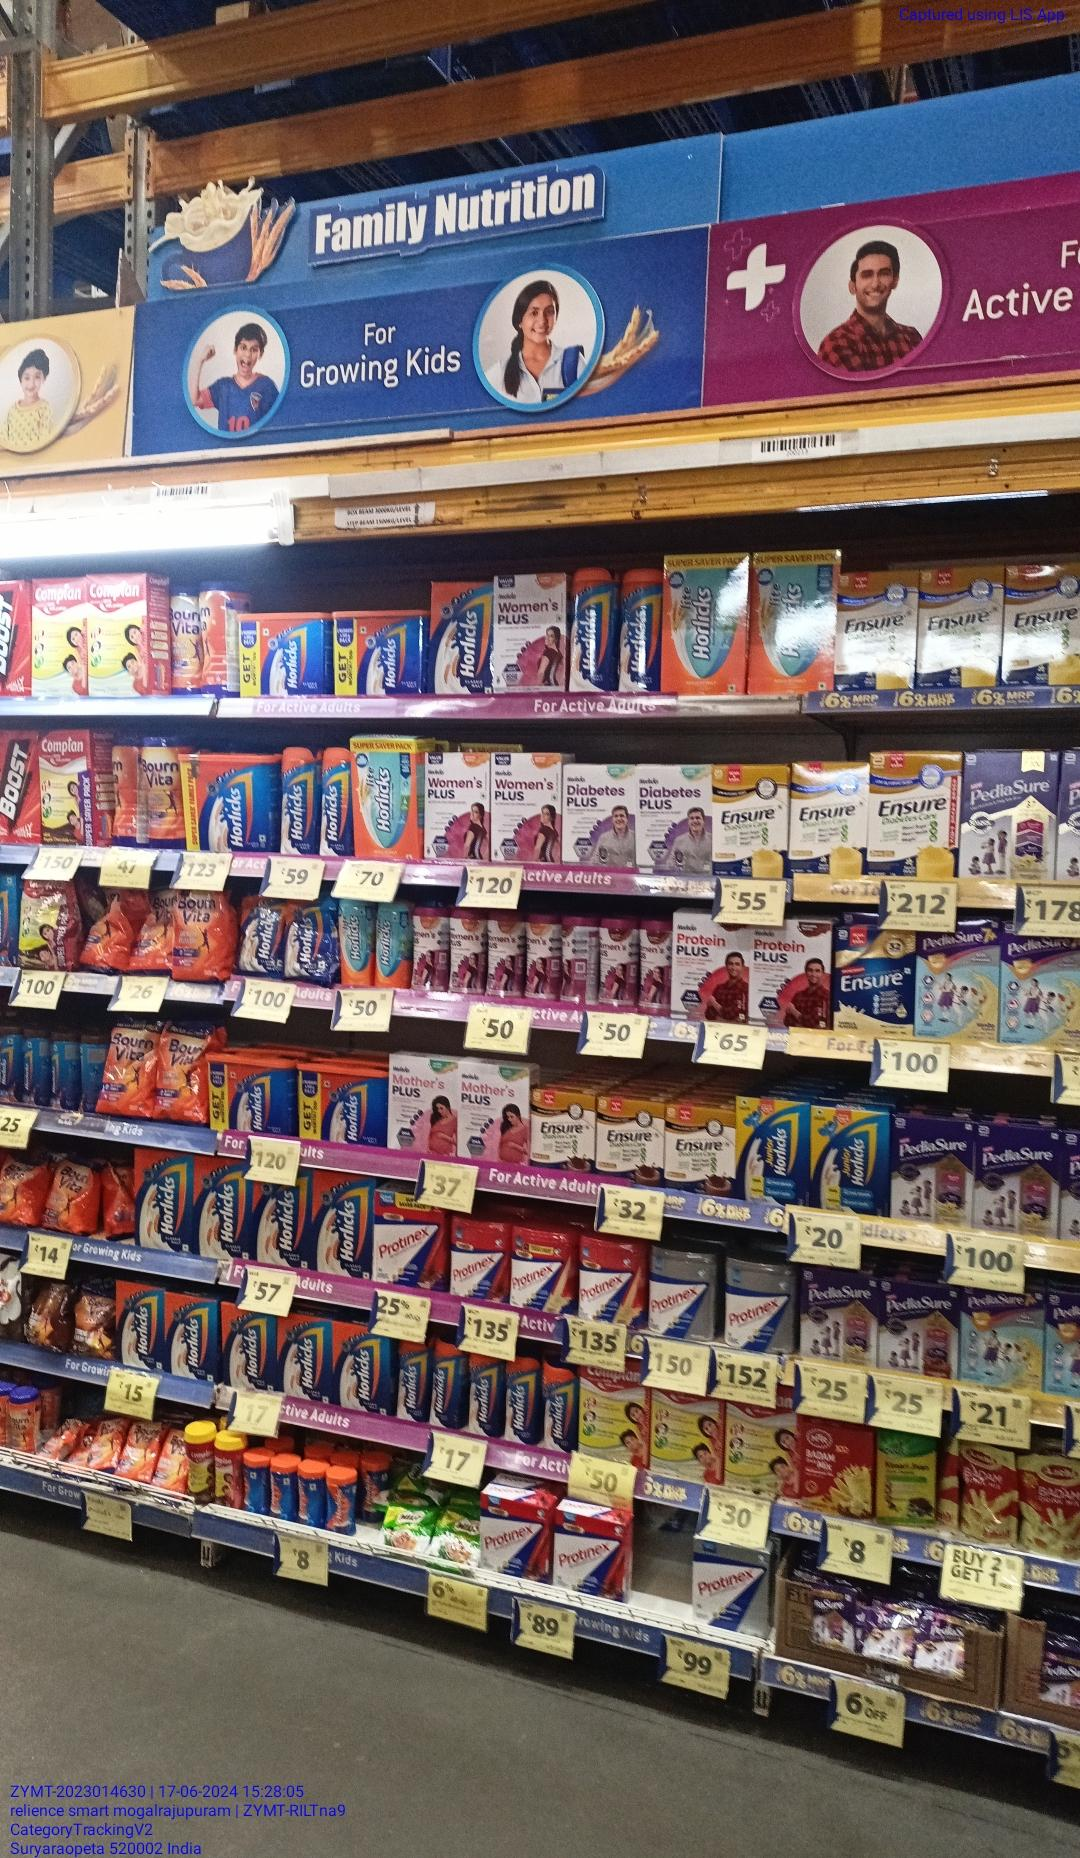BOURN_VITA_500_G_JAR: (140, 732, 185, 847), (170, 585, 204, 694)
BOURN_VITA_750_G_POUCH: (172, 892, 233, 982)
COMPLAN_CHOCOLATE_1_KG_PACK: (40, 730, 94, 847)
COMPLAN_CHOCOLATE_200_GMS_JAR: (186, 1420, 215, 1502)
COMPLAN_CREAMY_CLASSIC_500_G_PACK: (87, 575, 149, 697), (581, 1367, 649, 1470), (30, 576, 87, 697), (653, 1387, 724, 1479)
COMPLAN_PISTA_BADAM_500_GMS_PACK: (725, 1398, 798, 1494)
COMPLAN_RC_POUCH_700_GMS_12: (19, 878, 78, 971)
HORLICKS_LITE_REGULAR_MALT_500_GM_JAR: (374, 901, 410, 989), (339, 897, 373, 988)
HORLICK_CLASSIC_MALT_200_G_JAR: (431, 1337, 469, 1429), (543, 1359, 577, 1453), (507, 1357, 541, 1445), (471, 1351, 505, 1438), (399, 1340, 429, 1421)
HORLICK_CLASSIC_MALT_500_G_JAR: (570, 568, 617, 693), (618, 568, 660, 692), (279, 744, 319, 854), (320, 746, 354, 858)
HORLICK_CLASSIC_MALT_500_G_PACK: (429, 582, 492, 694), (314, 1169, 372, 1276), (193, 1155, 252, 1259), (138, 1147, 192, 1254), (333, 1322, 391, 1413), (255, 1178, 311, 1269), (116, 1279, 166, 1372), (279, 1315, 332, 1403), (220, 1309, 275, 1389), (168, 1294, 216, 1378)
HORLICK_CLASSIC_MALT_750_G_POUCH: (287, 897, 337, 982), (239, 891, 285, 976)
HORLICK_MALT_1_KG_CONTAINER: (186, 755, 270, 851), (333, 608, 422, 697), (238, 612, 325, 697), (297, 1063, 383, 1141), (210, 1054, 291, 1134)
PEDIASURE_VANILLA_500_G_PACK: (962, 751, 1056, 883), (978, 1123, 1059, 1238), (892, 1119, 973, 1228), (801, 1269, 882, 1363), (883, 1281, 958, 1377)
PROTINEX_CHOCOLATE_400_G_JAR: (450, 1218, 508, 1301)
PROTINEX_ORIGINAL_400_G_JAR: (724, 1255, 793, 1354), (651, 1247, 716, 1344)
PROTINEX_VANILLA_400_G_JAR: (579, 1236, 645, 1327), (513, 1227, 575, 1309)
